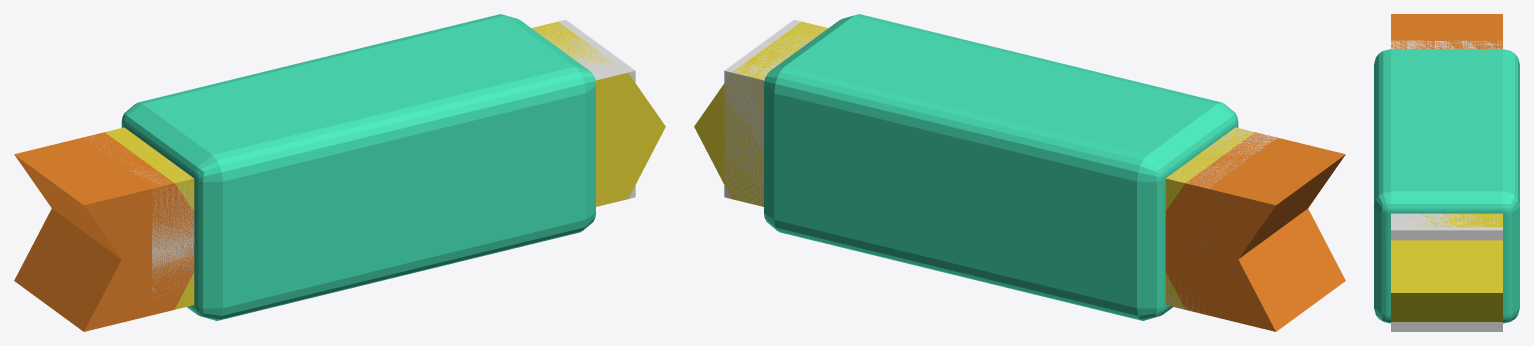
The model's file is DashBar.fbx.
The picture shows the model from 3 angles, left to right: view 1: azimuth 30°, elevation 25°; view 2: azimuth 150°, elevation 25°; view 3: azimuth 270°, elevation 25°; orthographic projection. The views are drawn at different scales.
Visible parts, largest first — view 1: BouncyBar, DashBar, Cube; view 2: BouncyBar, DashBar, Cube; view 3: BouncyBar, DashBar, Cube.
Boxes of the visible parts, x1,y1,x2,y2 form: BouncyBar: (121, 14, 595, 320); DashBar: (14, 21, 665, 331); Cube: (90, 19, 635, 301); BouncyBar: (764, 14, 1238, 320); DashBar: (694, 21, 1345, 331); Cube: (724, 19, 1276, 314); BouncyBar: (1374, 49, 1519, 323); DashBar: (1391, 14, 1502, 321); Cube: (1391, 40, 1502, 331).
Bounding box in the file's own units: 481 × 130 × 130.
